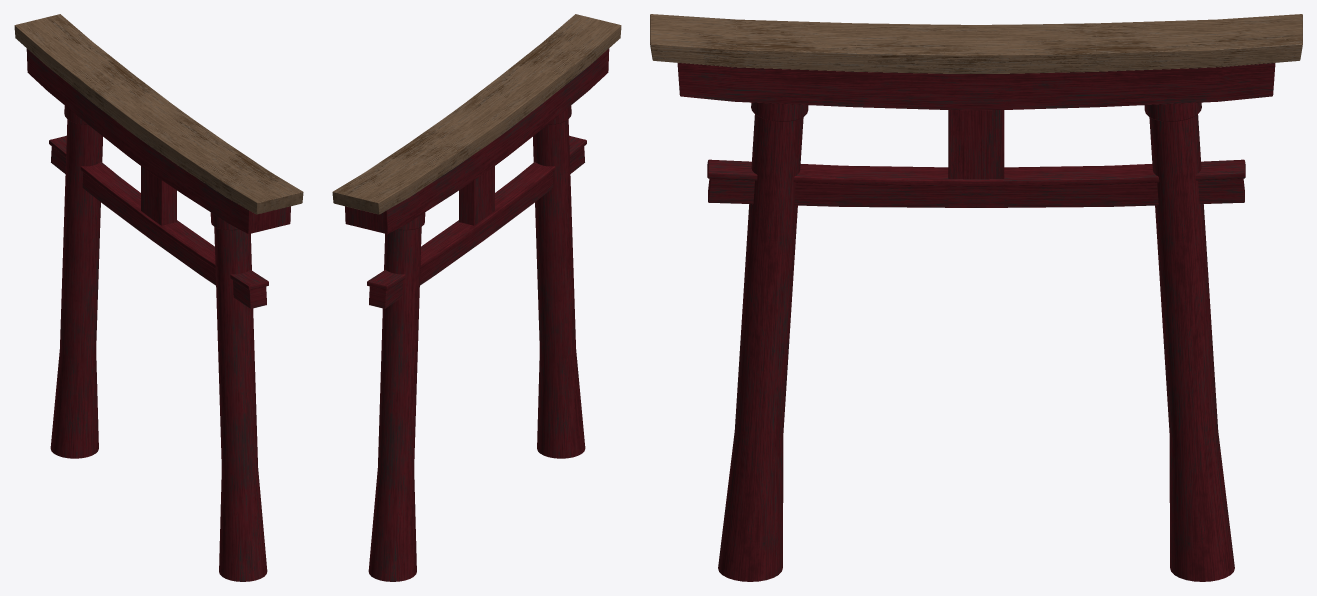
File: SM_Torii_01.fbx
3 renders of one model, left to right at view 1: azimuth 30°, elevation 25°; view 2: azimuth 150°, elevation 25°; view 3: azimuth 270°, elevation 25°, orthographic. The views are drawn at different scales.
Parts seen in each view (by area): view 1: SM_Torii_01; view 2: SM_Torii_01; view 3: SM_Torii_01.
Boxes of the visible parts, box(x1,y1,x2,y2) form: SM_Torii_01: box(14, 14, 303, 581); SM_Torii_01: box(332, 14, 621, 581); SM_Torii_01: box(650, 14, 1302, 581).
Size of the model in its own units: 84.87 by 769 by 701.
Materials: 2 (2 with a texture image).
